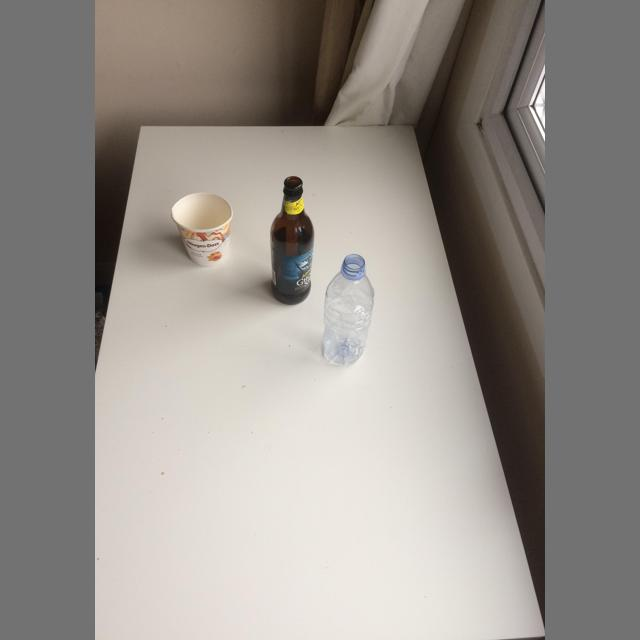litter: (270, 176, 315, 305), (323, 254, 374, 365), (171, 193, 233, 267)
